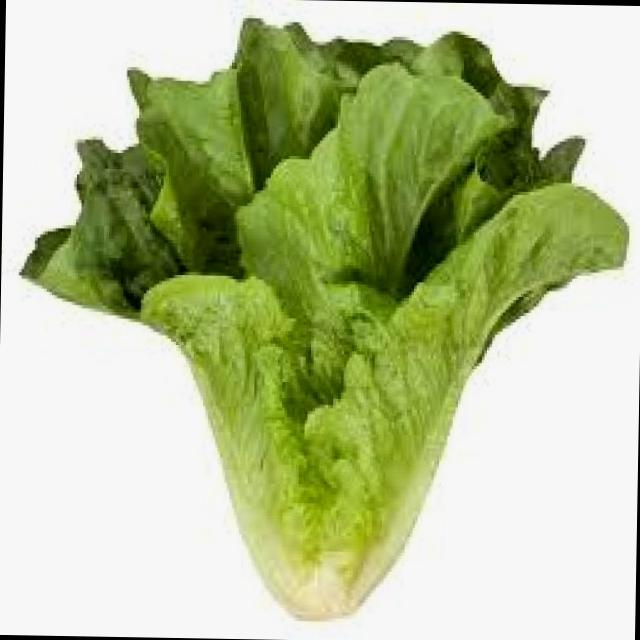Lettuce-Ready-to-Harvest: (30, 19, 627, 617)
